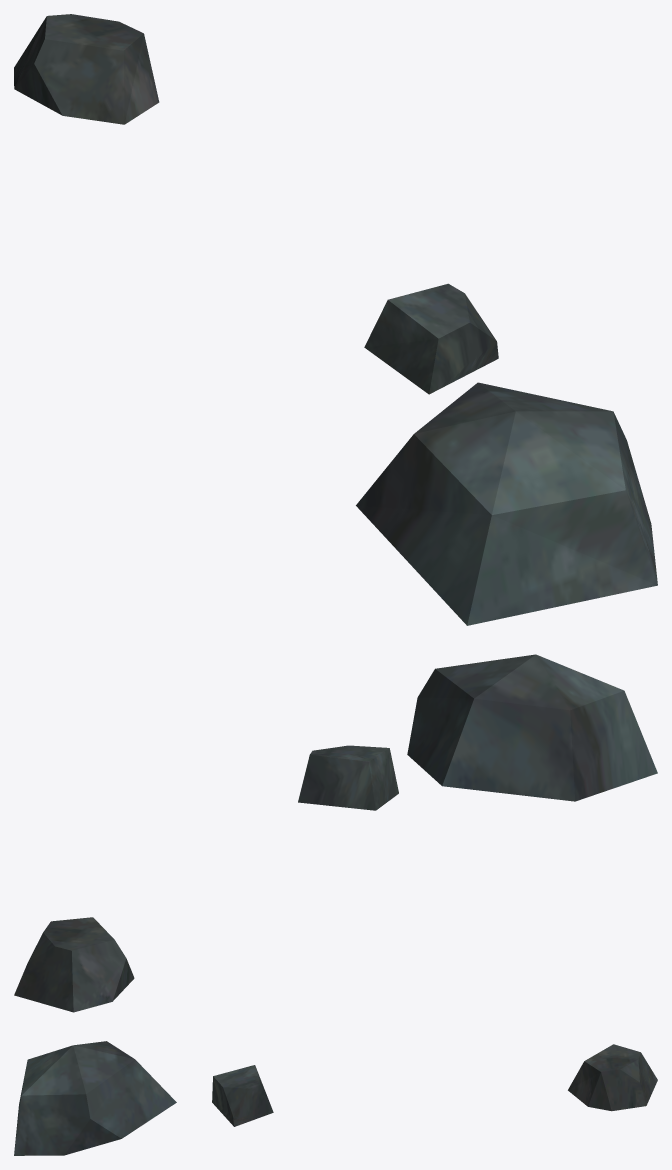
Rendered from object_rubble34.fbx.
3 renders of one model, top to bottom at view 1: azimuth 30°, elevation 25°; view 2: azimuth 150°, elevation 25°; view 3: azimuth 270°, elevation 25°, orthographic. The views are drawn at different scales.
Parts seen in each view (by area): view 1: obj0.107; view 2: obj0.107; view 3: obj0.107.
Boxes of the visible parts, x1,y1,x2,y2 form: obj0.107: [14, 14, 657, 625]; obj0.107: [14, 654, 657, 1012]; obj0.107: [14, 1041, 657, 1155].
Bounding box in the file's own units: 0.6031 × 0.4149 × 2.62.
